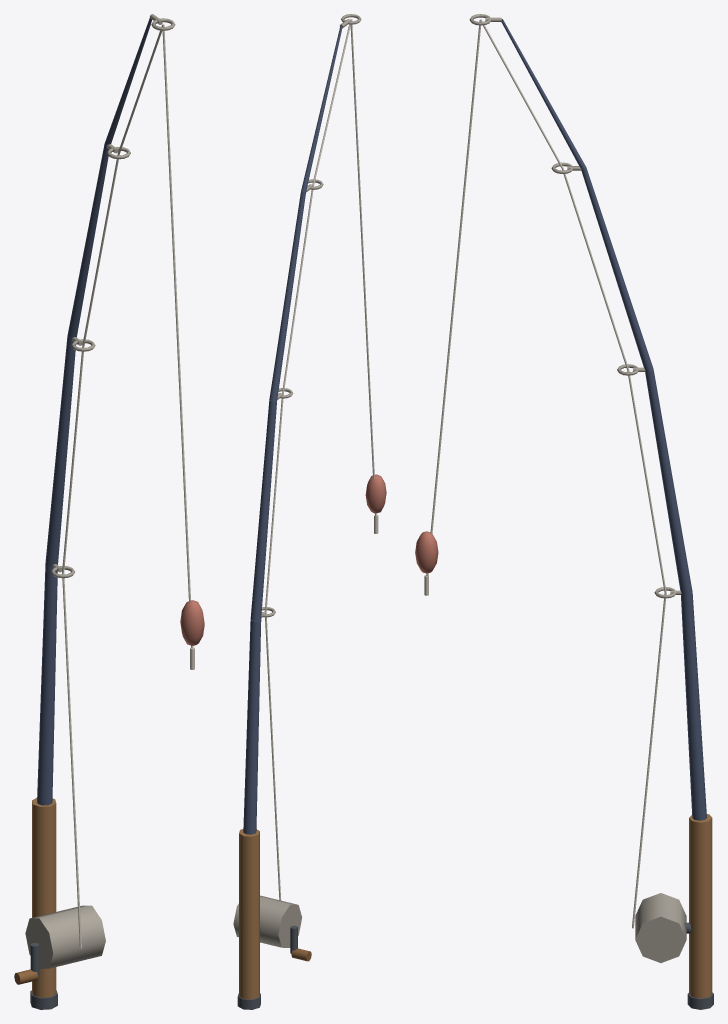
File: komachi-fishing-rod.glb
3 renders of one model, left to right at view 1: azimuth 30°, elevation 25°; view 2: azimuth 150°, elevation 25°; view 3: azimuth 270°, elevation 25°, orthographic. The views are drawn at different scales.
Visible parts, largest first — view 1: Prop_Body, Fishing_Line; view 2: Prop_Body, Fishing_Line; view 3: Prop_Body, Fishing_Line.
Part boxes in pixels (bbox=[...]): Prop_Body: bbox=[14, 14, 175, 1009]; Fishing_Line: bbox=[62, 24, 204, 948]; Prop_Body: bbox=[233, 14, 361, 1009]; Fishing_Line: bbox=[264, 19, 386, 900]; Prop_Body: bbox=[469, 14, 713, 1009]; Fishing_Line: bbox=[415, 19, 666, 928].
Bounding box in the file's own units: 0.034 × 0.465 × 0.1276.
